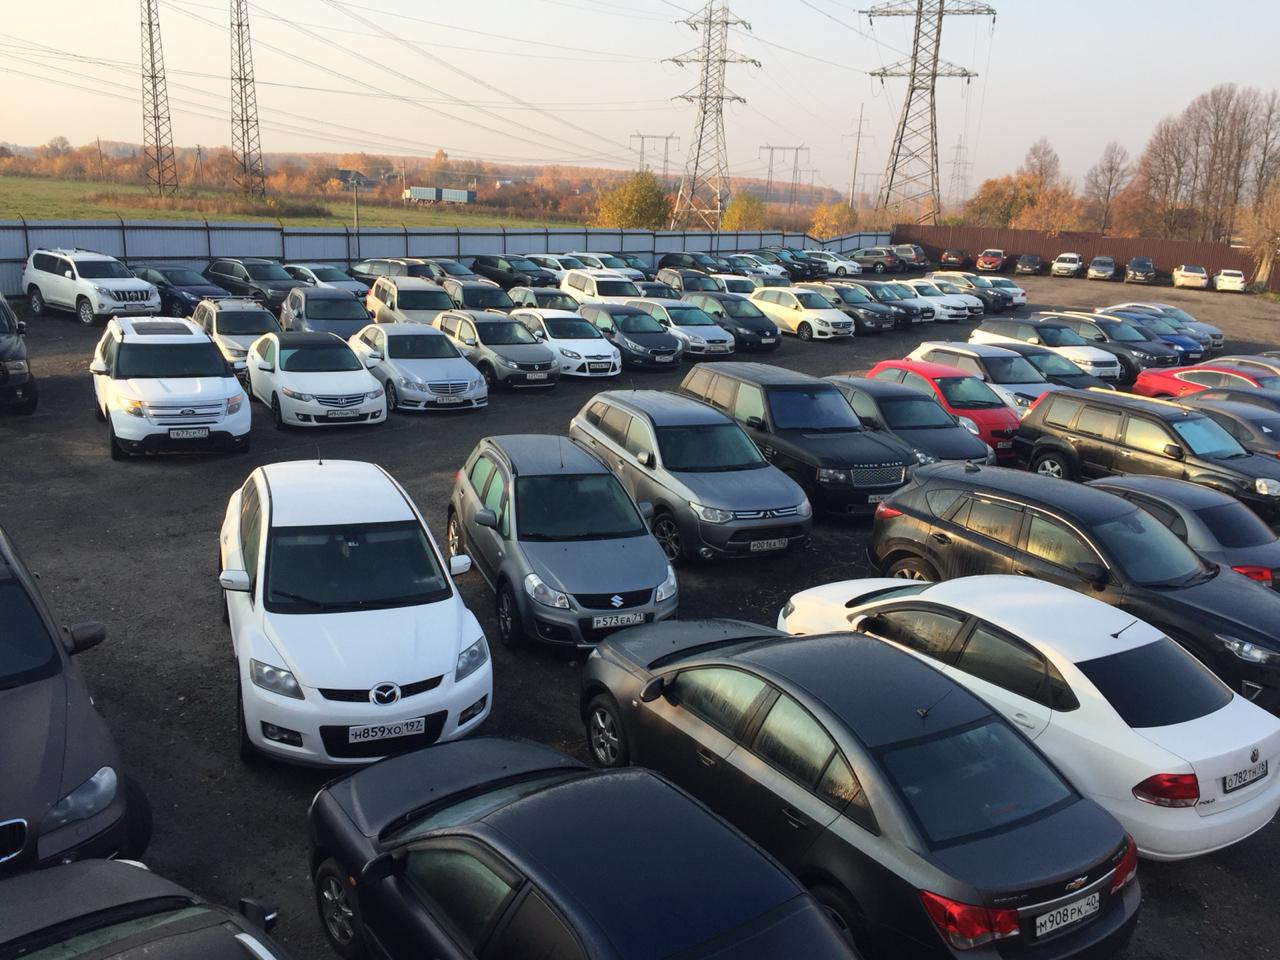Car: (580, 620, 1142, 960), (776, 575, 1280, 861), (309, 737, 857, 960), (870, 463, 1280, 699), (218, 459, 494, 768), (0, 526, 151, 877), (446, 435, 679, 650), (568, 390, 812, 563), (679, 362, 916, 517), (1015, 389, 1280, 526), (0, 860, 290, 960), (89, 316, 252, 460), (1089, 476, 1280, 591), (868, 359, 1019, 460), (824, 377, 991, 464), (246, 333, 389, 428), (350, 324, 488, 412), (1029, 312, 1178, 387), (907, 342, 1056, 416), (21, 248, 162, 327), (968, 319, 1124, 386), (434, 310, 559, 388), (512, 309, 622, 379), (190, 298, 280, 381), (578, 303, 682, 369), (624, 299, 736, 359), (1094, 302, 1225, 350), (1174, 400, 1280, 460), (678, 293, 781, 351), (748, 287, 856, 342), (790, 282, 897, 334), (204, 258, 300, 313), (1099, 313, 1204, 362), (1133, 364, 1280, 399), (999, 343, 1110, 389), (280, 287, 372, 341), (1103, 307, 1208, 352), (134, 265, 229, 316), (825, 278, 923, 327), (0, 296, 38, 414), (366, 277, 454, 325), (922, 272, 1014, 311), (284, 263, 368, 304), (1154, 388, 1280, 414), (888, 280, 968, 320), (1115, 316, 1179, 363), (469, 255, 557, 289), (346, 257, 435, 289), (907, 278, 984, 316), (560, 270, 640, 304), (563, 252, 647, 283), (877, 281, 936, 322), (441, 279, 513, 311), (656, 268, 723, 299), (761, 247, 828, 277), (1194, 355, 1280, 378), (423, 258, 494, 285), (743, 249, 809, 277), (509, 286, 578, 312), (801, 248, 862, 276), (658, 251, 732, 274), (527, 253, 586, 281), (728, 253, 787, 279), (847, 247, 901, 273), (979, 276, 1027, 306), (710, 256, 766, 277), (884, 243, 926, 271), (710, 274, 757, 298), (617, 255, 657, 281), (1171, 264, 1209, 291), (1124, 256, 1156, 285), (1050, 252, 1083, 278), (1213, 269, 1248, 294), (634, 282, 680, 301), (975, 248, 1008, 272), (1086, 256, 1117, 282), (1014, 255, 1044, 275), (746, 274, 792, 287), (940, 250, 968, 269), (1259, 350, 1280, 361)
